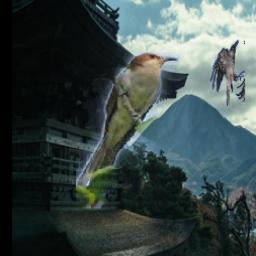Crow: (210, 40, 245, 106)
Cuckoo: (76, 52, 179, 209)
